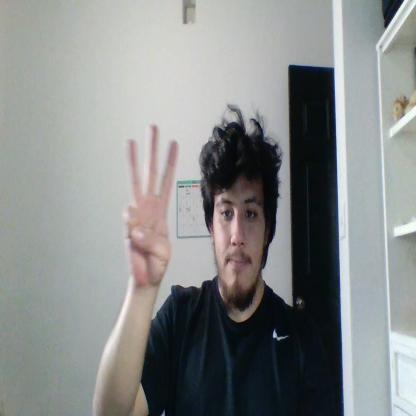W: (122, 122, 178, 288)
